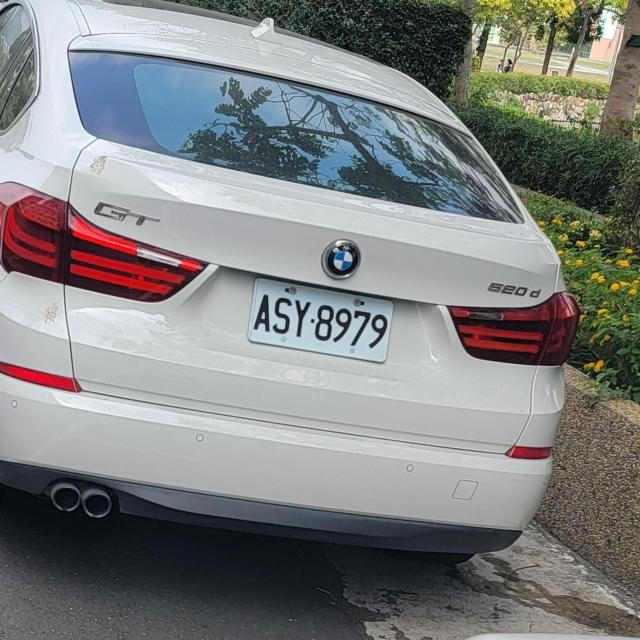W: (243, 274, 397, 368)
